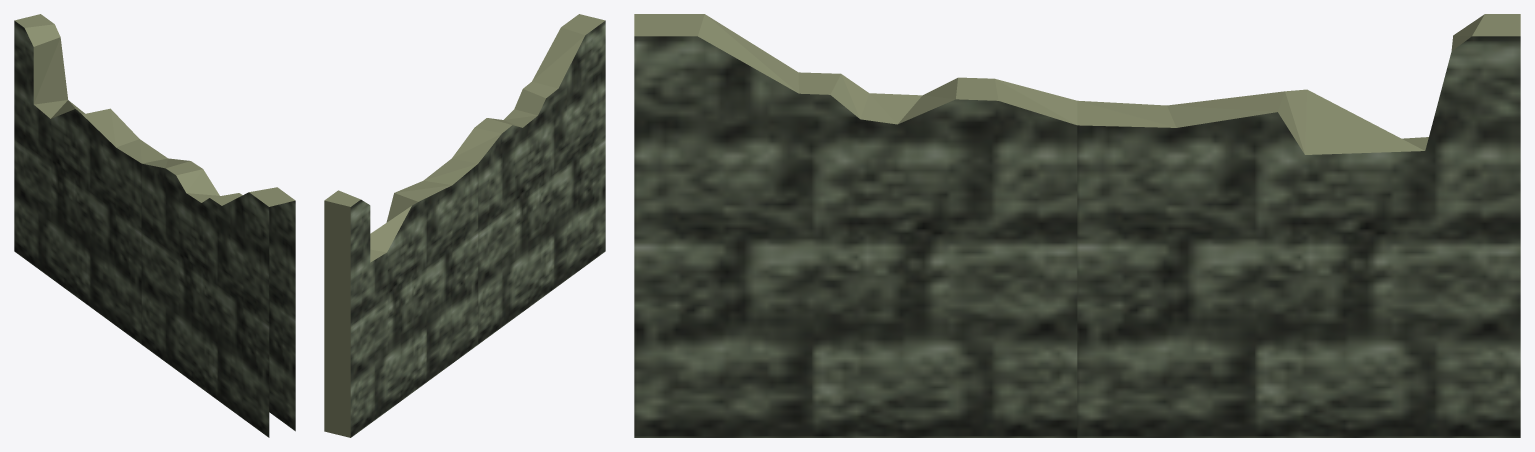
File: ruins_grid_33_2.glb
3 views of the same model, side by side, from view 1: azimuth 30°, elevation 25°; view 2: azimuth 150°, elevation 25°; view 3: azimuth 270°, elevation 25° (orthographic). The views are drawn at different scales.
Visible parts, largest first — view 1: ruins_grid_33_2; view 2: ruins_grid_33_2; view 3: ruins_grid_33_2.
Part boxes in pixels (bbox=[...]): ruins_grid_33_2: bbox=[14, 14, 295, 437]; ruins_grid_33_2: bbox=[324, 14, 605, 437]; ruins_grid_33_2: bbox=[634, 14, 1520, 437].
Bounding box in the file's own units: 0.24 × 2 × 4.
Materials: 2 (1 with a texture image).
